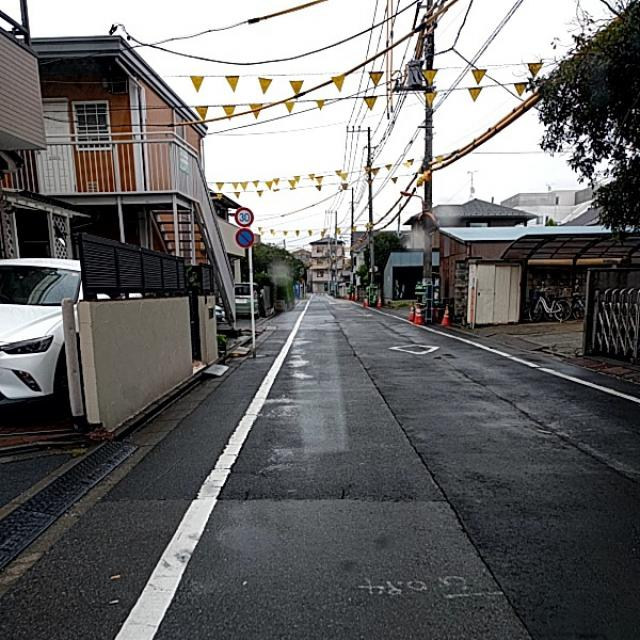pothole: (395, 427, 448, 500)
